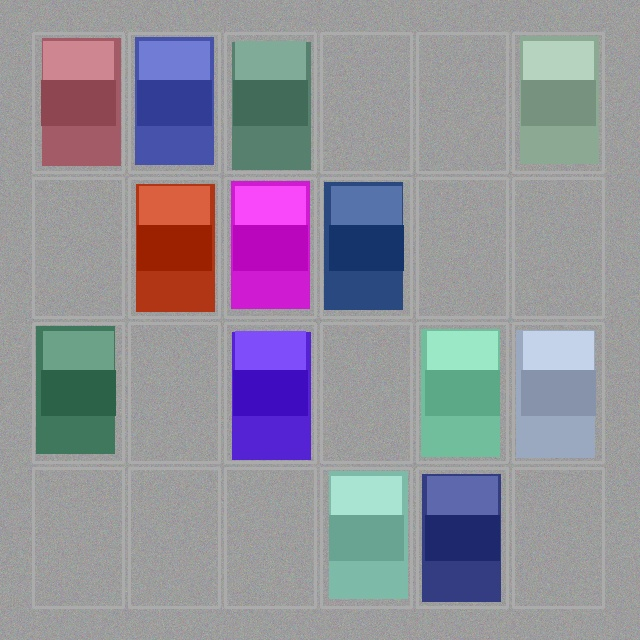space-empty: (323, 35, 409, 170), (419, 35, 505, 170), (35, 180, 121, 315), (419, 180, 505, 315), (515, 180, 601, 315), (131, 325, 217, 460), (323, 325, 409, 460), (35, 470, 121, 605), (131, 470, 217, 605), (227, 470, 313, 605), (515, 470, 601, 605)
space-occupied: (35, 35, 121, 170), (131, 35, 217, 170), (227, 35, 313, 170), (515, 35, 601, 170), (131, 180, 217, 315), (227, 180, 313, 315), (323, 180, 409, 315), (35, 325, 121, 460), (227, 325, 313, 460), (419, 325, 505, 460), (515, 325, 601, 460), (323, 470, 409, 605), (419, 470, 505, 605)
